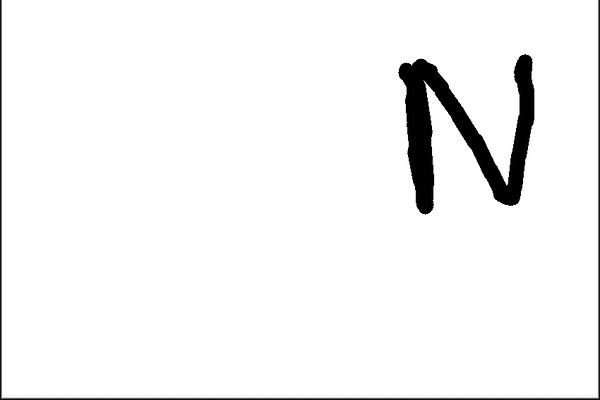N: (390, 47, 541, 224)
